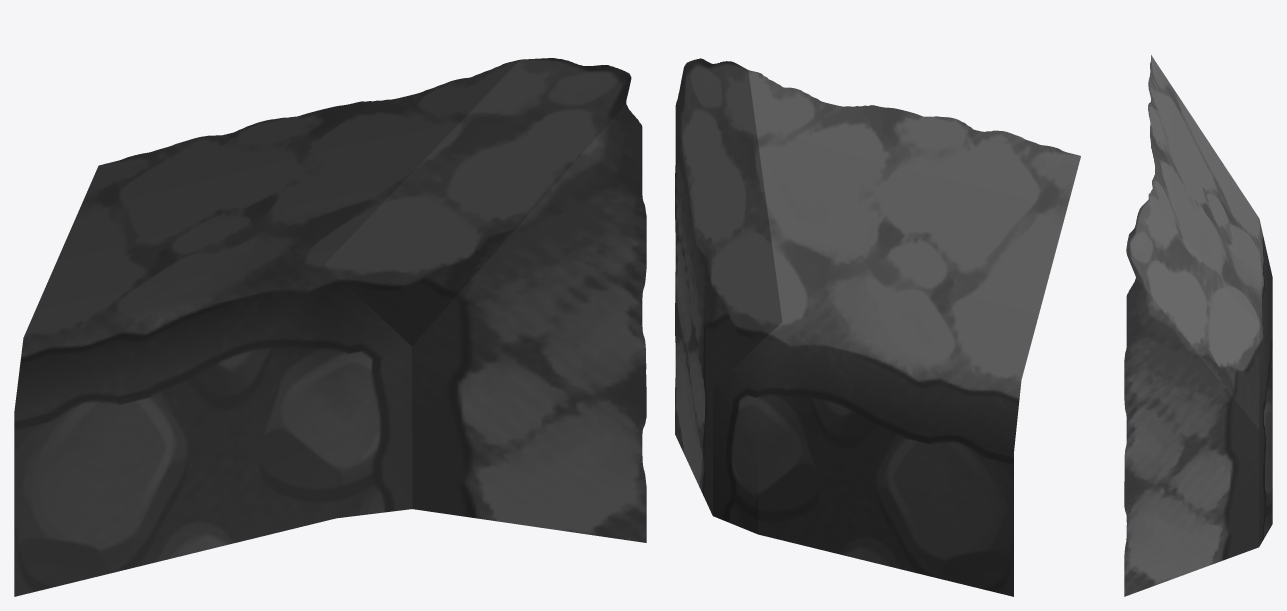
Rendered from Tile6.fbx.
3 views of the same model, side by side, from view 1: azimuth 30°, elevation 25°; view 2: azimuth 150°, elevation 25°; view 3: azimuth 270°, elevation 25° (orthographic). The views are drawn at different scales.
Visible parts, largest first — view 1: polySurface8; view 2: polySurface8; view 3: polySurface8.
Part boxes in pixels (x1,y1,x2,y2): polySurface8: (14,58,646,596); polySurface8: (675,58,1080,596); polySurface8: (1124,55,1272,596).
Bounding box in the file's own units: 1.99 × 1.97 × 0.6688.
Materials: 1 (1 with a texture image).
